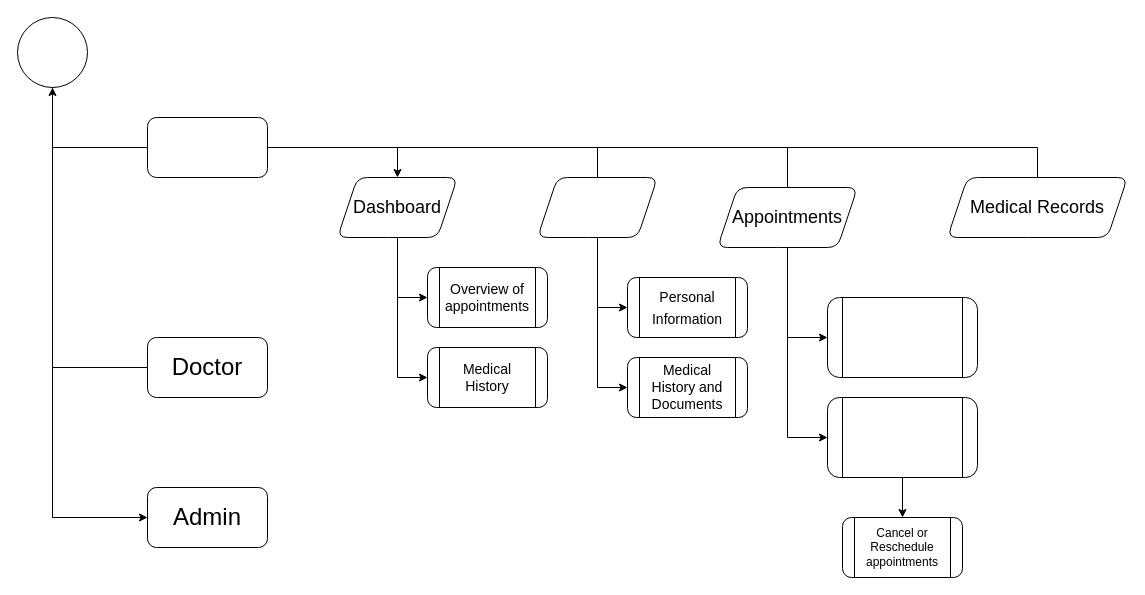
Image size: 1145x595. Some labels were removed from this diagram. Each missing label, with the centre of its shape:
new appointment: pixel 902 337
Patient: pixel 207 147
Profile: pixel 597 207
START: pixel 52 52
upcoming and past appointments: pixel 902 437
